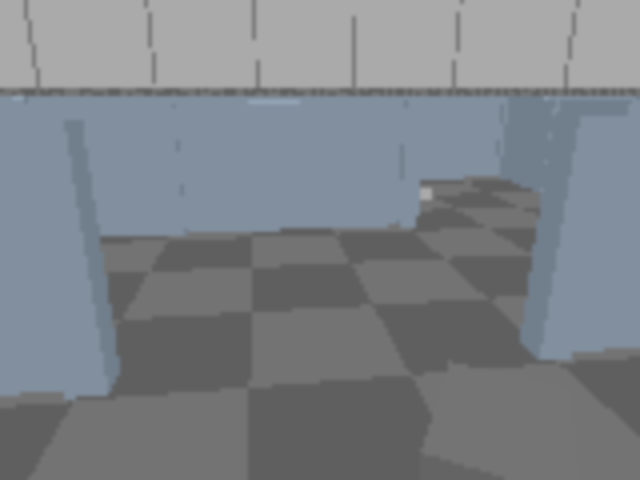obstacle: (417, 362, 583, 478)
